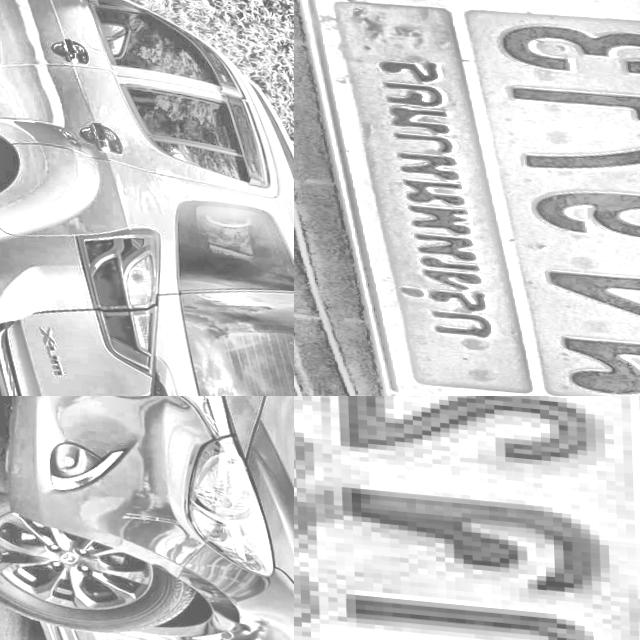license-plate: (294, 0, 640, 396), (294, 396, 640, 640)
